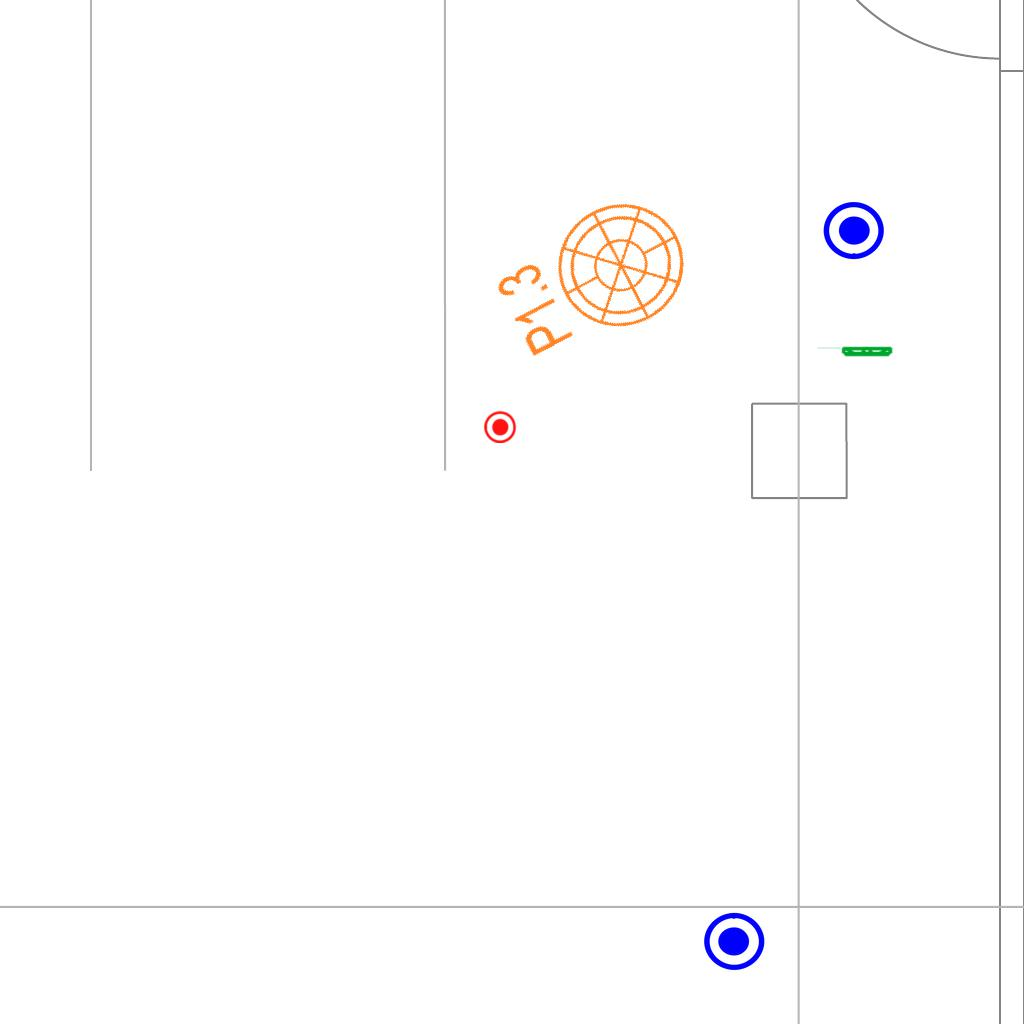Aufbaurundleuchte_LED_Treppenhaus: (463, 168, 710, 385)
Sicherheitsleuchte_Wandeinbau: (815, 346, 894, 358)
Taster: (701, 906, 767, 972), (821, 200, 887, 266), (484, 410, 517, 443)
